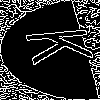K: (25, 25, 100, 65)
